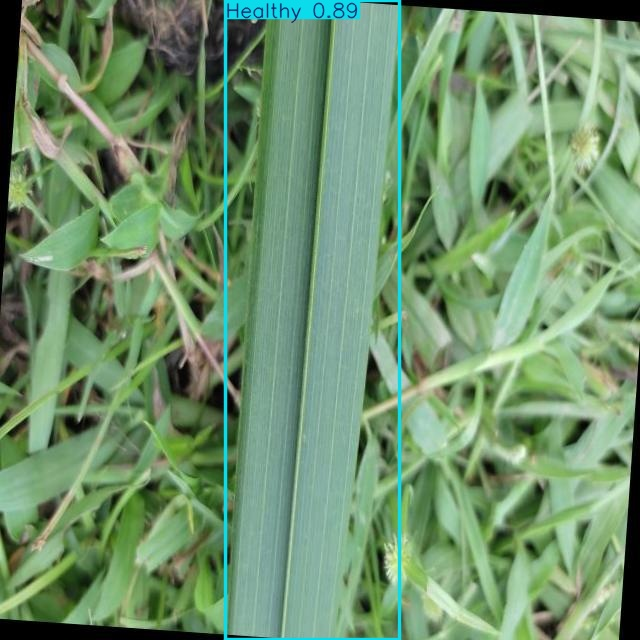Healthy: (226, 0, 400, 640)
